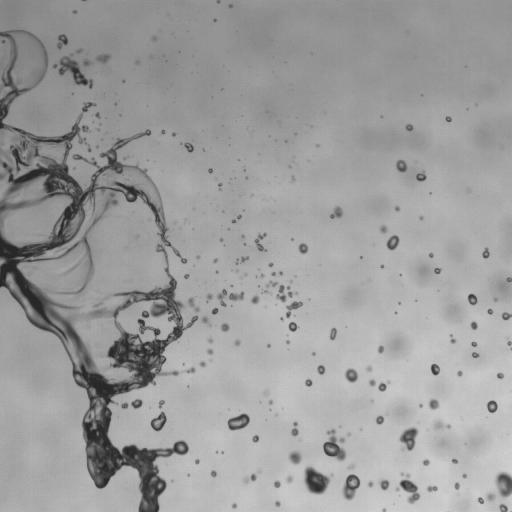droplet: (302, 464, 333, 494), (395, 471, 420, 504), (322, 428, 346, 461), (398, 426, 418, 451), (342, 474, 361, 500), (494, 471, 511, 498), (227, 413, 250, 431), (150, 411, 166, 431), (431, 418, 451, 431), (344, 368, 358, 383), (288, 450, 302, 465), (386, 234, 399, 250), (56, 34, 68, 49), (330, 205, 343, 218), (395, 159, 407, 172), (486, 400, 498, 413), (95, 54, 111, 63), (378, 379, 390, 391), (378, 478, 390, 490), (429, 362, 440, 375), (428, 398, 439, 410), (201, 316, 212, 327), (288, 321, 299, 332), (131, 398, 142, 409), (60, 44, 71, 55), (48, 52, 59, 63), (73, 53, 84, 64), (46, 67, 57, 78), (7, 102, 18, 113), (81, 113, 92, 124), (405, 166, 416, 177), (78, 178, 89, 189), (163, 214, 174, 225), (172, 290, 183, 301), (265, 292, 276, 303), (276, 301, 287, 312), (199, 305, 210, 316), (180, 308, 191, 319), (290, 309, 301, 320), (212, 313, 223, 324), (45, 331, 56, 342), (356, 371, 367, 382), (177, 372, 188, 383), (127, 388, 138, 399), (123, 390, 134, 401), (112, 392, 123, 403), (243, 424, 254, 435), (106, 429, 117, 440), (113, 439, 124, 450), (288, 440, 299, 451), (121, 464, 132, 475), (451, 464, 462, 475), (127, 466, 138, 477), (295, 470, 306, 481), (389, 475, 400, 486), (296, 479, 307, 490), (324, 482, 335, 493), (488, 482, 499, 493), (493, 493, 504, 504), (416, 169, 426, 181), (467, 293, 477, 305), (298, 243, 308, 254), (329, 327, 337, 340), (250, 294, 260, 304), (0, 178, 9, 189), (499, 503, 511, 511), (375, 415, 384, 425), (285, 474, 294, 484), (82, 58, 93, 66), (481, 247, 489, 258), (469, 321, 478, 330), (220, 322, 229, 331), (78, 65, 87, 74), (63, 69, 72, 78), (43, 128, 52, 137), (53, 128, 62, 137), (90, 149, 99, 158), (65, 157, 74, 166), (98, 157, 107, 166), (245, 235, 254, 244), (238, 262, 247, 271), (180, 263, 189, 272), (229, 273, 238, 282), (275, 275, 284, 284), (243, 291, 252, 300), (210, 298, 219, 307), (492, 309, 501, 318), (468, 329, 477, 338), (310, 372, 319, 381), (81, 398, 90, 407), (430, 408, 439, 417), (75, 425, 84, 434), (152, 457, 161, 466), (314, 464, 323, 473), (416, 485, 425, 494), (133, 490, 142, 499), (309, 491, 318, 500), (156, 493, 165, 502), (206, 293, 214, 303), (501, 312, 511, 320), (317, 365, 325, 375), (426, 485, 437, 492), (379, 224, 387, 233), (304, 378, 313, 386), (505, 369, 511, 380), (505, 494, 511, 505), (475, 505, 486, 511), (368, 378, 376, 386), (422, 458, 430, 466), (273, 480, 281, 488), (449, 334, 456, 343), (405, 124, 413, 131), (377, 345, 384, 353), (206, 348, 214, 355), (198, 360, 206, 367), (121, 401, 128, 409), (252, 434, 259, 442), (347, 462, 355, 469), (0, 285, 5, 296), (234, 339, 241, 346), (365, 365, 372, 372), (496, 372, 503, 379), (210, 470, 217, 477), (87, 54, 94, 61), (106, 58, 113, 65), (94, 60, 101, 67), (83, 72, 90, 79), (64, 126, 71, 133), (33, 129, 40, 136), (71, 136, 78, 143), (68, 148, 75, 155), (81, 150, 88, 157), (115, 155, 122, 162), (90, 165, 97, 172), (67, 169, 74, 176), (340, 206, 347, 213), (164, 220, 171, 227), (383, 232, 390, 239), (292, 240, 299, 247), (213, 262, 220, 269), (271, 264, 278, 271), (264, 273, 271, 280), (233, 287, 240, 294), (253, 288, 260, 295), (291, 294, 298, 301), (222, 295, 229, 302), (257, 297, 264, 304), (285, 297, 292, 304), (206, 312, 213, 319), (283, 317, 290, 324), (181, 318, 188, 325), (41, 329, 48, 336), (161, 349, 168, 356), (202, 353, 209, 360), (160, 363, 167, 370), (175, 364, 182, 371), (194, 364, 201, 371), (339, 367, 346, 374), (338, 370, 345, 377), (366, 372, 373, 379), (79, 387, 86, 394), (422, 400, 429, 407), (106, 402, 113, 409), (160, 405, 167, 412), (441, 416, 448, 423), (404, 422, 411, 429), (396, 428, 403, 435), (334, 431, 341, 438), (323, 434, 330, 441), (413, 434, 420, 441), (79, 439, 86, 446), (124, 439, 131, 446), (136, 442, 143, 449), (145, 443, 152, 450), (286, 446, 293, 453), (329, 455, 336, 462), (343, 456, 350, 463), (285, 459, 292, 466), (157, 471, 164, 478), (108, 475, 115, 482), (408, 475, 415, 482), (457, 477, 464, 484), (279, 479, 286, 486), (338, 479, 345, 486), (359, 479, 366, 486), (373, 482, 380, 489), (404, 490, 411, 497), (434, 268, 442, 274), (207, 335, 213, 343), (158, 400, 164, 408), (454, 482, 460, 490), (506, 467, 511, 476), (272, 506, 281, 511), (93, 112, 100, 118), (211, 308, 218, 314), (470, 341, 477, 347), (472, 352, 479, 358), (263, 389, 269, 396), (451, 457, 458, 463), (367, 480, 373, 487), (274, 500, 280, 507), (75, 48, 83, 53), (290, 175, 295, 183), (231, 268, 239, 273), (445, 116, 451, 122), (159, 129, 165, 135), (133, 234, 139, 240), (487, 308, 493, 314), (231, 502, 237, 508), (220, 0, 229, 4), (457, 370, 462, 377), (151, 36, 157, 41), (394, 205, 399, 211), (240, 234, 245, 240), (428, 252, 433, 258), (212, 258, 218, 263), (268, 399, 273, 405), (132, 507, 139, 511), (134, 59, 139, 64), (208, 168, 213, 173), (268, 262, 273, 267), (260, 273, 265, 278), (184, 274, 189, 279), (506, 277, 511, 282), (285, 339, 290, 344), (462, 473, 467, 478), (25, 26, 30, 31), (31, 29, 36, 34), (36, 33, 41, 38), (3, 36, 8, 41), (66, 36, 71, 41), (40, 38, 45, 43), (54, 38, 59, 43), (61, 43, 66, 48), (103, 49, 108, 54), (70, 55, 75, 60), (47, 61, 52, 66), (56, 63, 61, 68), (53, 67, 58, 72), (41, 77, 46, 82), (38, 81, 43, 86), (78, 83, 83, 88), (83, 84, 88, 89), (88, 97, 93, 102), (87, 106, 92, 111), (82, 111, 87, 116), (449, 113, 454, 118), (1, 118, 6, 123), (404, 119, 409, 124), (408, 119, 413, 124), (69, 120, 74, 125), (77, 122, 82, 127), (15, 123, 20, 128), (88, 124, 93, 129), (23, 126, 28, 131), (140, 127, 145, 132), (78, 129, 83, 134), (142, 134, 147, 139), (181, 138, 186, 143), (129, 139, 134, 144), (90, 145, 95, 150), (102, 147, 107, 152), (400, 155, 405, 160), (78, 158, 83, 163), (405, 161, 410, 166), (139, 164, 144, 169), (393, 168, 398, 173), (145, 170, 150, 175), (397, 170, 402, 175), (241, 171, 246, 176), (286, 175, 291, 180), (152, 178, 157, 183), (418, 180, 423, 185), (398, 204, 403, 209), (329, 208, 334, 213), (390, 208, 395, 213), (237, 209, 242, 214), (333, 216, 338, 221), (375, 228, 380, 233), (164, 230, 169, 235), (393, 230, 398, 235), (252, 233, 257, 238), (397, 234, 402, 239), (166, 236, 171, 241), (299, 238, 304, 243), (258, 239, 263, 244), (304, 240, 309, 245), (251, 242, 256, 247), (382, 244, 387, 249), (395, 244, 400, 249), (164, 245, 169, 250), (294, 247, 299, 252), (306, 248, 311, 253), (304, 251, 309, 256), (180, 252, 185, 257), (175, 256, 180, 261), (231, 263, 236, 268), (269, 266, 274, 271), (168, 269, 173, 274), (237, 270, 242, 275), (173, 275, 178, 280), (242, 276, 247, 281), (271, 276, 276, 281), (274, 284, 279, 289), (217, 288, 222, 293), (226, 288, 231, 293), (466, 289, 471, 294), (472, 290, 477, 295), (201, 295, 206, 300), (463, 297, 468, 302), (11, 298, 16, 303), (276, 298, 281, 303), (193, 299, 198, 304), (250, 302, 255, 307), (474, 302, 479, 307), (209, 304, 214, 309), (216, 304, 221, 309), (290, 308, 295, 313), (214, 312, 219, 317), (281, 312, 286, 317), (288, 316, 293, 321), (193, 320, 198, 325), (475, 320, 480, 325), (227, 322, 232, 327), (216, 323, 221, 328), (33, 326, 38, 331), (335, 326, 340, 331), (38, 328, 43, 333), (181, 329, 186, 334), (286, 329, 291, 334), (45, 330, 50, 335), (223, 330, 228, 335), (325, 330, 330, 335), (335, 331, 340, 336), (236, 334, 241, 339), (334, 334, 339, 339), (282, 335, 287, 340), (230, 337, 235, 342), (239, 341, 244, 346), (449, 342, 454, 347), (207, 343, 212, 348), (286, 343, 291, 348), (233, 345, 238, 350), (373, 345, 378, 350), (471, 346, 476, 351), (212, 347, 217, 352), (382, 348, 387, 353), (209, 353, 214, 358), (204, 359, 209, 364), (319, 360, 324, 365), (365, 360, 370, 365), (435, 360, 440, 365), (313, 362, 318, 367), (347, 363, 352, 368), (185, 364, 190, 369), (323, 364, 328, 369), (67, 367, 72, 372), (426, 367, 431, 372), (495, 368, 500, 373), (452, 369, 457, 374), (437, 371, 442, 376), (461, 371, 466, 376), (177, 372, 182, 377), (187, 372, 192, 377), (170, 374, 175, 379), (152, 376, 157, 381), (300, 378, 305, 383), (343, 378, 348, 383), (147, 381, 152, 386), (374, 381, 379, 386), (72, 382, 77, 387), (385, 383, 390, 388), (378, 390, 383, 395), (431, 394, 436, 399), (265, 395, 270, 400), (437, 399, 442, 404), (140, 402, 145, 407), (496, 402, 501, 407), (127, 403, 132, 408), (136, 406, 141, 411), (122, 407, 127, 412), (483, 408, 488, 413), (494, 409, 499, 414), (245, 410, 250, 415), (234, 411, 239, 416), (153, 412, 158, 417), (164, 412, 169, 417), (373, 412, 378, 417), (382, 415, 387, 420), (248, 417, 253, 422), (371, 419, 376, 424), (382, 419, 387, 424), (162, 423, 167, 428), (244, 424, 249, 429), (289, 424, 294, 429), (295, 424, 300, 429), (148, 426, 153, 431), (239, 427, 244, 432), (443, 427, 448, 432), (233, 428, 238, 433), (289, 434, 294, 439), (294, 434, 299, 439), (247, 435, 252, 440), (175, 436, 180, 441), (344, 436, 349, 441), (185, 440, 190, 445), (335, 440, 340, 445), (168, 443, 173, 448), (318, 446, 323, 451), (403, 448, 408, 453), (171, 451, 176, 456), (81, 452, 86, 457), (183, 452, 188, 457), (322, 453, 327, 458), (420, 455, 425, 460), (427, 456, 432, 461), (418, 462, 423, 467), (427, 462, 432, 467), (451, 462, 456, 467), (423, 464, 428, 469), (215, 469, 220, 474), (348, 469, 353, 474), (354, 471, 359, 476), (246, 472, 251, 477), (255, 473, 260, 478), (357, 474, 362, 479), (383, 475, 388, 480), (272, 476, 277, 481), (164, 478, 169, 483), (89, 479, 94, 484), (248, 479, 253, 484), (429, 481, 434, 486), (165, 482, 170, 487), (269, 482, 274, 487), (449, 482, 454, 487), (458, 482, 463, 487), (367, 486, 372, 491), (398, 486, 403, 491), (354, 487, 359, 492), (415, 488, 420, 493), (430, 490, 435, 495), (481, 494, 486, 499), (276, 496, 281, 501), (342, 497, 347, 502), (228, 499, 233, 504), (414, 499, 419, 504), (279, 500, 284, 505), (270, 502, 275, 507), (236, 503, 241, 508), (195, 458, 199, 464), (226, 0, 233, 3), (0, 25, 3, 32), (0, 91, 3, 98), (0, 165, 3, 172), (171, 132, 176, 136), (131, 209, 136, 213), (419, 215, 423, 220), (380, 264, 384, 269), (493, 297, 498, 301), (418, 403, 423, 407), (346, 432, 351, 436), (213, 18, 217, 22), (250, 193, 254, 197), (290, 237, 294, 241), (219, 238, 223, 242), (196, 255, 200, 259), (228, 4, 233, 7), (72, 10, 77, 13), (95, 128, 100, 131), (508, 272, 511, 277), (508, 309, 511, 314), (508, 316, 511, 321), (157, 508, 162, 511), (231, 508, 236, 511), (495, 508, 500, 511), (216, 0, 220, 3), (95, 145, 99, 148), (315, 144, 319, 147), (245, 175, 248, 179), (221, 210, 225, 213), (173, 221, 177, 224), (289, 279, 292, 283), (398, 301, 401, 305), (267, 344, 270, 348), (312, 352, 315, 356), (208, 359, 212, 362), (274, 413, 278, 416), (382, 508, 386, 511), (0, 41, 2, 46), (0, 79, 2, 84), (122, 79, 125, 82), (114, 102, 117, 105), (380, 115, 383, 118), (92, 120, 95, 123), (294, 132, 297, 135), (288, 165, 291, 168), (72, 166, 75, 169), (227, 227, 230, 230), (243, 242, 246, 245), (215, 270, 218, 273), (399, 273, 402, 276), (230, 284, 233, 287), (414, 299, 417, 302), (230, 304, 233, 307), (394, 311, 397, 314), (182, 362, 185, 365), (370, 399, 373, 402), (359, 428, 362, 431), (215, 450, 218, 453), (187, 473, 190, 476), (82, 0, 85, 3), (215, 2, 218, 5), (232, 3, 235, 6), (225, 4, 228, 7), (71, 7, 74, 10), (228, 7, 231, 10), (71, 12, 74, 15), (213, 15, 216, 18), (210, 19, 213, 22), (215, 20, 218, 23), (16, 26, 19, 29), (59, 31, 62, 34), (42, 42, 45, 45), (124, 78, 127, 81), (118, 79, 121, 82), (122, 82, 125, 85), (91, 84, 94, 87), (68, 92, 71, 95), (116, 101, 119, 104), (79, 108, 82, 111), (98, 112, 101, 115), (446, 113, 449, 116), (94, 116, 97, 119), (443, 119, 446, 122), (447, 121, 450, 124), (96, 124, 99, 127), (412, 125, 415, 128), (162, 126, 165, 129), (94, 129, 97, 132), (158, 129, 161, 132), (164, 129, 167, 132), (172, 129, 175, 132), (405, 129, 408, 132), (410, 129, 413, 132), (150, 130, 153, 133), (162, 133, 165, 136), (175, 133, 178, 136), (170, 135, 173, 138), (119, 136, 122, 139), (85, 138, 88, 141), (113, 139, 116, 142), (315, 140, 318, 143), (191, 142, 194, 145), (183, 146, 186, 149), (204, 147, 207, 150), (191, 150, 194, 153), (202, 151, 205, 154), (132, 162, 135, 165), (290, 162, 293, 165), (208, 165, 211, 168), (244, 166, 247, 169), (240, 167, 243, 170), (212, 169, 215, 172), (205, 170, 208, 173), (418, 170, 421, 173), (424, 172, 427, 175), (247, 175, 250, 178), (294, 175, 297, 178), (229, 179, 232, 182), (216, 180, 219, 183), (219, 185, 222, 188), (428, 188, 431, 191), (218, 190, 221, 193), (425, 191, 428, 194), (431, 191, 434, 194), (159, 192, 162, 195), (396, 210, 399, 213), (235, 212, 238, 215), (420, 212, 423, 215), (422, 216, 425, 219), (328, 217, 331, 220), (416, 217, 419, 220), (232, 222, 235, 225), (238, 232, 241, 235), (243, 232, 246, 235), (238, 235, 241, 238), (292, 235, 295, 238), (287, 236, 290, 239), (216, 237, 219, 240), (241, 239, 244, 242), (221, 240, 224, 243), (170, 242, 173, 245), (240, 243, 243, 246), (481, 248, 484, 251), (487, 248, 490, 251), (258, 250, 261, 253), (427, 250, 430, 253), (196, 251, 199, 254), (359, 252, 362, 255), (199, 253, 202, 256), (432, 254, 435, 257), (479, 254, 482, 257), (356, 255, 359, 258), (248, 256, 251, 259), (427, 256, 430, 259), (198, 257, 201, 260), (361, 257, 364, 260), (484, 257, 487, 260), (210, 258, 213, 261), (233, 258, 236, 261), (186, 259, 189, 262), (268, 259, 271, 262), (216, 260, 219, 263), (377, 263, 380, 266), (383, 264, 386, 267), (434, 264, 437, 267), (437, 265, 440, 268), (216, 267, 219, 270), (431, 267, 434, 270), (212, 269, 215, 272), (186, 270, 189, 273), (399, 270, 402, 273), (431, 270, 434, 273), (282, 271, 285, 274), (181, 272, 184, 275), (215, 273, 218, 276), (257, 273, 260, 276), (435, 273, 438, 276), (396, 274, 399, 277), (252, 275, 255, 278), (399, 275, 402, 278), (187, 276, 190, 279), (291, 276, 294, 279), (230, 281, 233, 284), (263, 286, 266, 289), (465, 293, 468, 296), (494, 294, 497, 297), (415, 296, 418, 299), (476, 297, 479, 300), (397, 298, 400, 301), (400, 300, 403, 303), (414, 301, 417, 304), (395, 303, 398, 306), (485, 306, 488, 309), (491, 307, 494, 310), (395, 308, 398, 311), (391, 310, 394, 313), (487, 313, 490, 316), (499, 316, 502, 319), (504, 319, 507, 322), (295, 328, 298, 331), (447, 331, 450, 334), (206, 335, 209, 338), (211, 336, 214, 339), (328, 338, 331, 341), (470, 338, 473, 341), (473, 338, 476, 341), (504, 339, 507, 342), (267, 340, 270, 343), (282, 340, 285, 343), (289, 340, 292, 343), (379, 342, 382, 345), (476, 342, 479, 345), (263, 343, 266, 346), (269, 345, 272, 348), (312, 348, 315, 351), (308, 351, 311, 354), (315, 351, 318, 354), (468, 352, 471, 355), (65, 354, 68, 357), (311, 355, 314, 358), (469, 355, 472, 358), (473, 357, 476, 360), (179, 360, 182, 363), (371, 367, 374, 370), (460, 368, 463, 371), (183, 371, 186, 374), (322, 372, 325, 375), (304, 376, 307, 379), (497, 377, 500, 380), (183, 384, 186, 387), (188, 384, 191, 387), (309, 384, 312, 387), (305, 385, 308, 388), (160, 396, 163, 399), (489, 397, 492, 400), (272, 399, 275, 402), (495, 400, 498, 403), (155, 402, 158, 405), (161, 403, 164, 406), (268, 404, 271, 407), (416, 405, 419, 408), (265, 408, 268, 411), (488, 411, 491, 414), (225, 417, 228, 420), (147, 421, 150, 424), (376, 423, 379, 426), (251, 433, 254, 436), (258, 436, 261, 439), (212, 449, 215, 452), (217, 450, 220, 453), (223, 450, 226, 453), (194, 456, 197, 459), (448, 458, 451, 461), (192, 459, 195, 462), (198, 460, 201, 463), (212, 467, 215, 470), (208, 469, 211, 472), (463, 470, 466, 473), (184, 471, 187, 474), (189, 472, 192, 475), (184, 474, 187, 477), (208, 474, 211, 477), (466, 474, 469, 477), (278, 485, 281, 488), (275, 487, 278, 490), (476, 501, 479, 504), (228, 504, 231, 507), (220, 88, 223, 90), (475, 103, 477, 106), (284, 140, 287, 142), (202, 148, 204, 151), (360, 256, 362, 259), (255, 274, 257, 277), (258, 284, 260, 287), (293, 314, 295, 317), (187, 385, 189, 388), (269, 408, 271, 411), (338, 425, 341, 427), (221, 451, 223, 454), (509, 280, 511, 283), (509, 338, 511, 341), (379, 509, 382, 511), (385, 509, 388, 511), (421, 94, 423, 96), (466, 108, 468, 110), (119, 114, 121, 116), (99, 123, 101, 125), (310, 125, 312, 127), (146, 159, 148, 161), (429, 192, 431, 194), (192, 208, 194, 210), (192, 228, 194, 230), (258, 268, 260, 270), (294, 275, 296, 277), (308, 298, 310, 300), (286, 334, 288, 336), (259, 401, 261, 403), (228, 408, 230, 410), (171, 480, 173, 482), (399, 494, 401, 496), (213, 0, 216, 1), (219, 0, 222, 1), (243, 209, 244, 211), (437, 290, 439, 291)
ligament: (52, 53, 93, 89), (261, 280, 298, 303), (280, 301, 303, 321), (242, 469, 261, 484), (477, 491, 496, 504), (180, 142, 193, 153), (234, 256, 249, 265), (291, 421, 298, 436), (231, 214, 242, 223), (270, 270, 283, 276), (507, 337, 511, 350), (240, 272, 247, 279), (217, 182, 222, 191), (122, 155, 129, 161), (243, 165, 245, 172), (184, 218, 186, 223), (81, 0, 86, 1)
